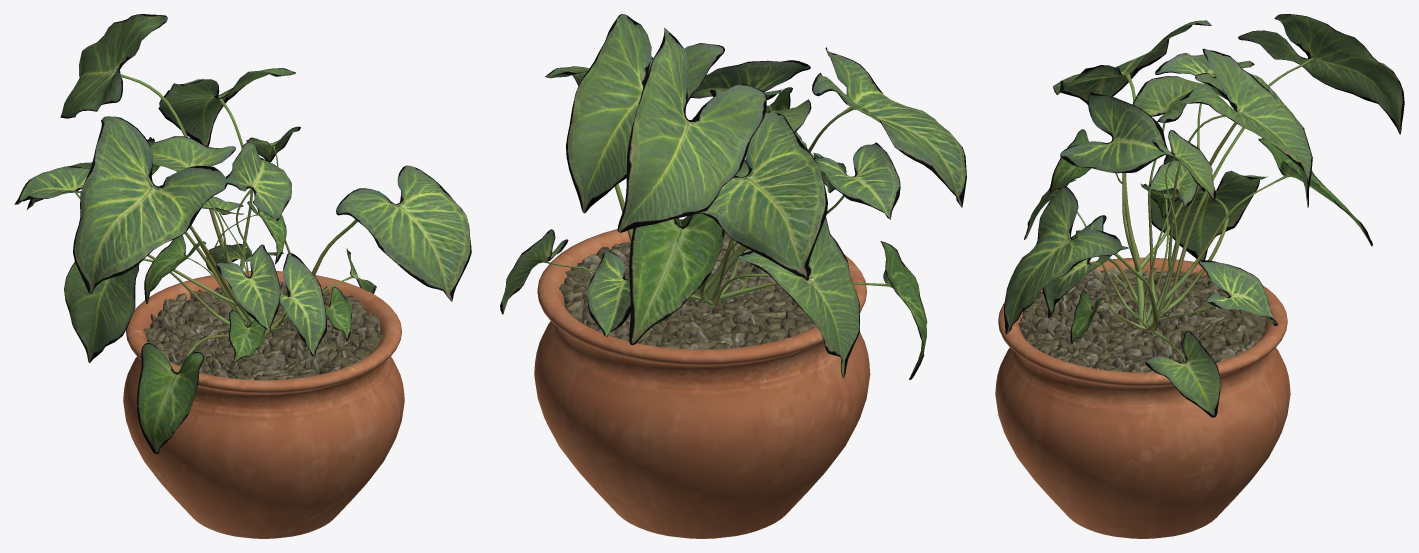
Rendered from potted-plant-real-opt.glb.
3 renders of one model, left to right at view 1: azimuth 30°, elevation 25°; view 2: azimuth 150°, elevation 25°; view 3: azimuth 270°, elevation 25°, orthographic. The views are drawn at different scales.
Visible parts, largest first — view 1: potted_plant_02_leaves, potted_plant_02_pot; view 2: potted_plant_02_leaves, potted_plant_02_pot; view 3: potted_plant_02_pot, potted_plant_02_leaves.
Part boxes in pixels (box(x1,y1,x2,y2)): potted_plant_02_leaves: box(14, 14, 471, 454); potted_plant_02_pot: box(123, 271, 404, 538); potted_plant_02_leaves: box(500, 14, 966, 379); potted_plant_02_pot: box(534, 219, 870, 538); potted_plant_02_pot: box(995, 257, 1290, 538); potted_plant_02_leaves: box(1004, 14, 1404, 417).
Bounding box in the file's own units: 0.7009 × 0.8412 × 0.6574.
Materials: 2 (2 with a texture image).
